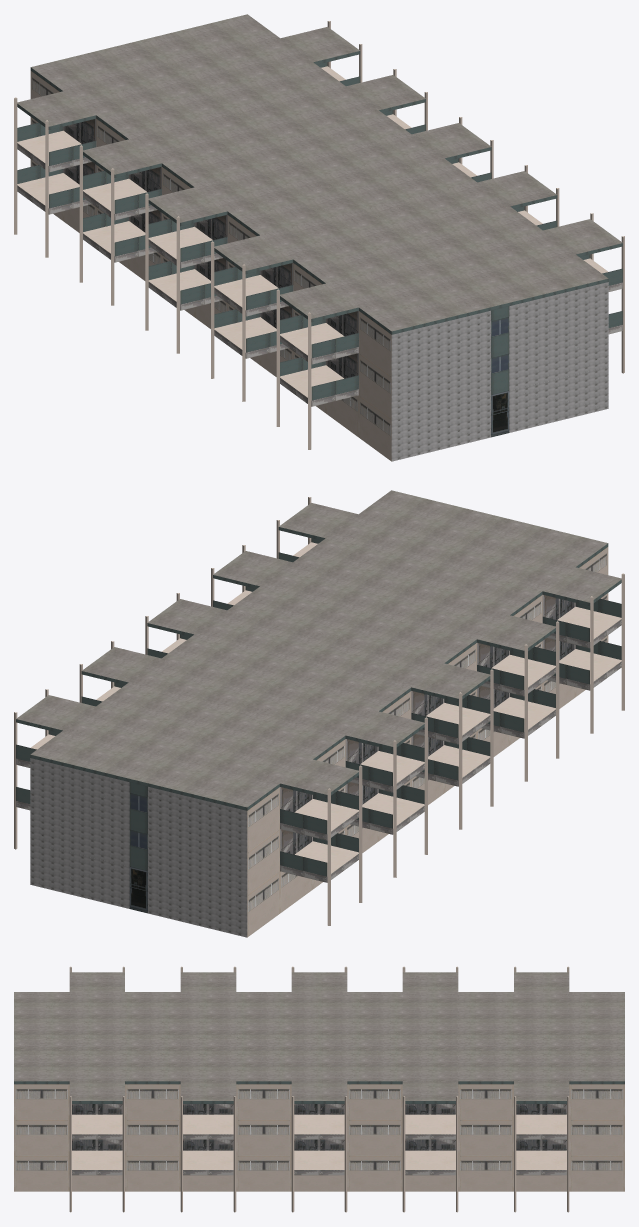
Rendered from vagbond03_lvs.obj.
3 renders of one model, top to bottom at view 1: azimuth 30°, elevation 25°; view 2: azimuth 150°, elevation 25°; view 3: azimuth 270°, elevation 25°, orthographic. The views are drawn at different scales.
Parts seen in each view (by area): view 1: vagbond03_lvs; view 2: vagbond03_lvs; view 3: vagbond03_lvs.
Part boxes in pixels (left/top/right/bottom): vagbond03_lvs: left=14, top=14, right=624, bottom=461; vagbond03_lvs: left=14, top=490, right=624, bottom=937; vagbond03_lvs: left=14, top=966, right=624, bottom=1212.
Size of the model in its own units: 27.63 by 11.36 by 54.5.
Materials: 6 (6 with a texture image).
